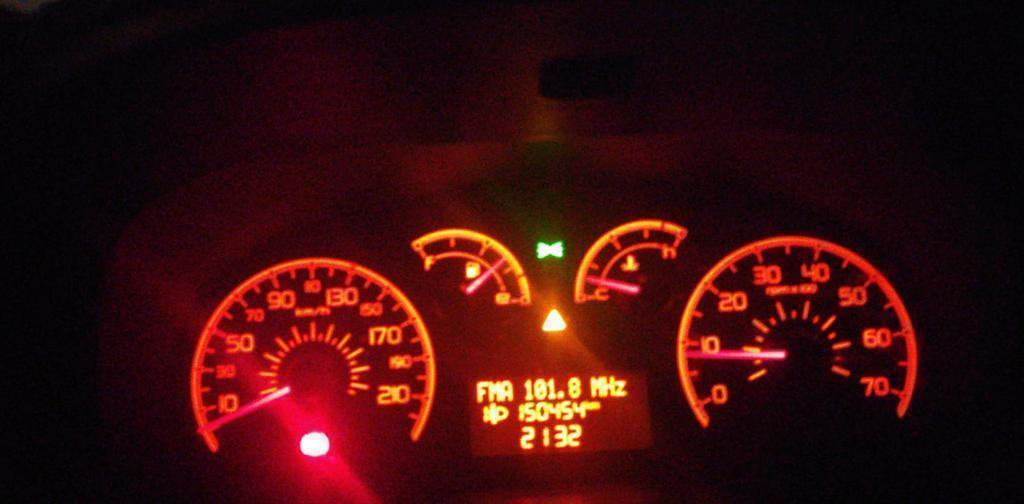,: (557, 389, 565, 400)
0: (533, 377, 547, 401), (535, 401, 548, 422)
1: (538, 423, 551, 450), (521, 377, 533, 401), (546, 377, 556, 401), (516, 401, 524, 422), (480, 404, 488, 424)
2: (518, 424, 536, 449), (567, 422, 583, 448)
3: (553, 424, 567, 449)
4: (548, 401, 561, 422), (573, 400, 586, 420)
5: (561, 400, 573, 421), (524, 402, 535, 422)
8: (566, 376, 582, 399)
X: (589, 375, 603, 398), (488, 380, 501, 403), (475, 380, 488, 403), (501, 379, 513, 402), (603, 375, 615, 397), (615, 378, 628, 397), (592, 401, 600, 410), (586, 401, 592, 409)
odometer: (458, 364, 662, 463)
